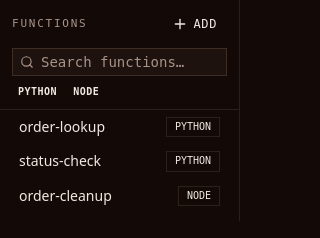
Scenario: combines the search box and a solo'd language
Click the button "python".
click(38, 92)  # box x1=12 y1=82 x2=63 y2=101
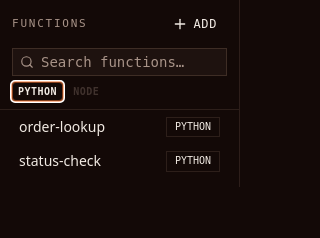
Type "order" into the field with placeholder "Search functions…".
click(120, 62); type("order")  # box x1=12 y1=48 x2=227 y2=76
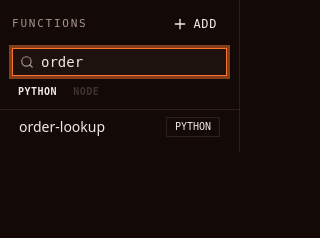
Expected: the text "order-lookup" is shown, x1=19 y1=117 x2=105 y2=137
Expected: the button "status-check" is gone
